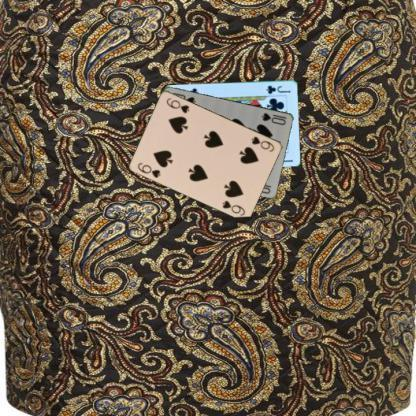10s: (258, 110, 288, 126)
6s: (135, 160, 162, 179), (249, 134, 276, 152)
Jc: (264, 82, 292, 94)
